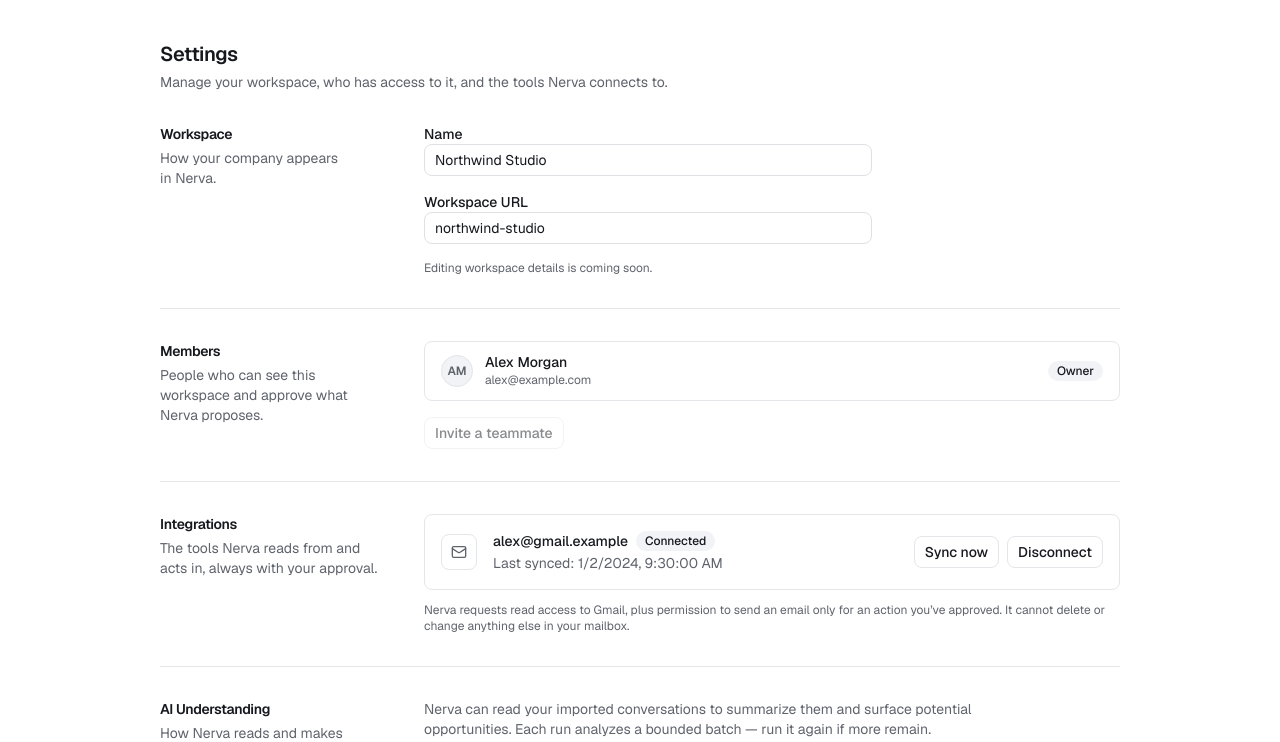
Test: SettingsView › syncs and shows how many messages were imported
Click the button "Sync now": (956,552) [914,536,999,568]
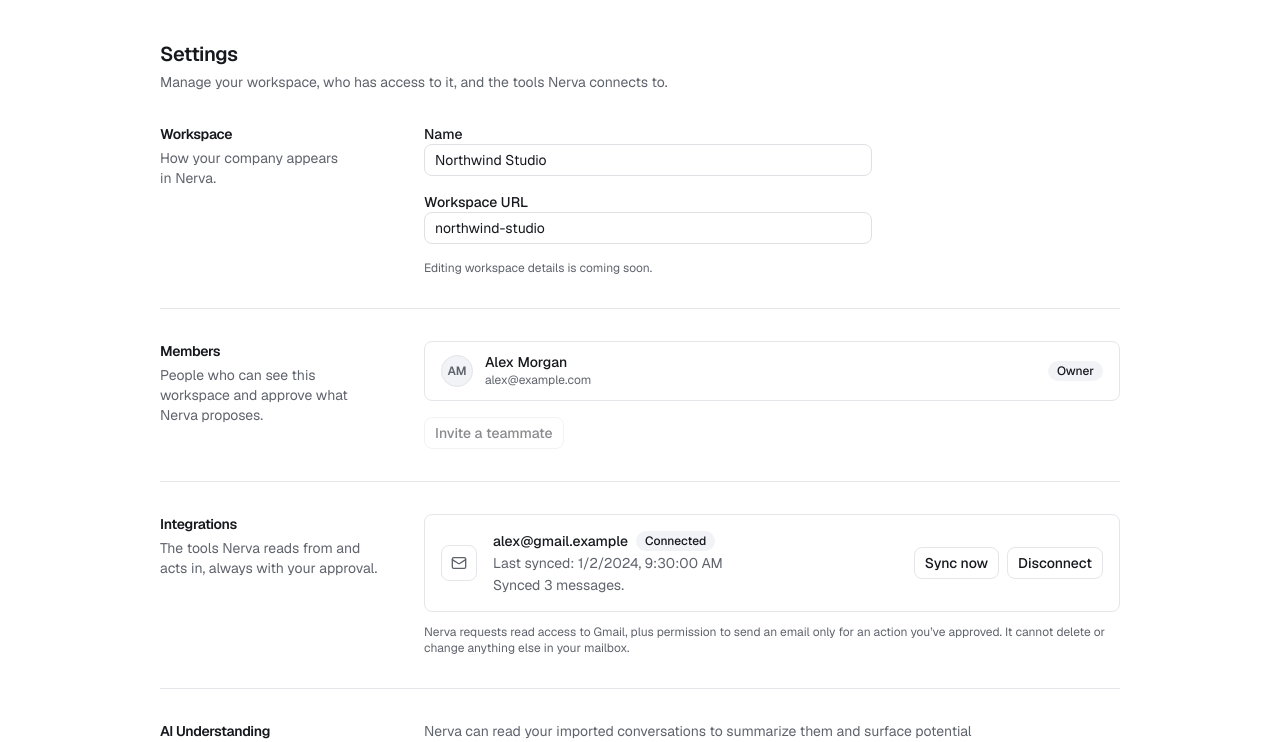
Now the text "Synced 3 messages." is shown, box [493,576,624,594]
